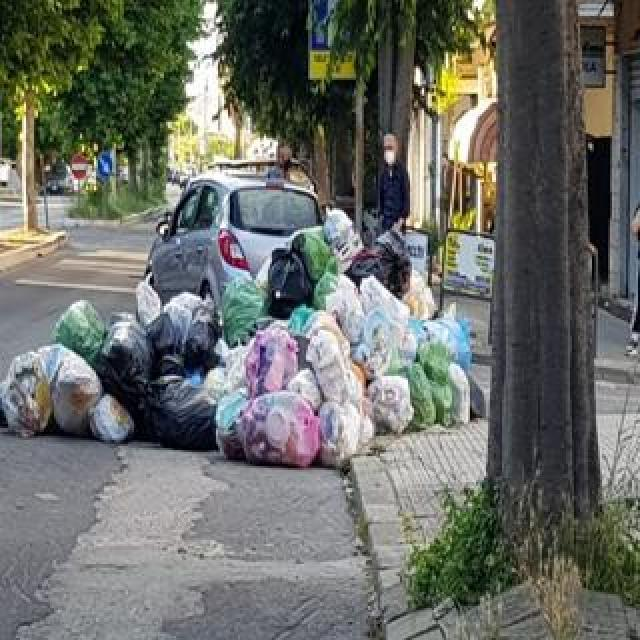Trashbag: (99, 341, 152, 429), (145, 385, 221, 446), (264, 246, 315, 324), (348, 248, 415, 294), (144, 311, 182, 379), (183, 321, 220, 368)
